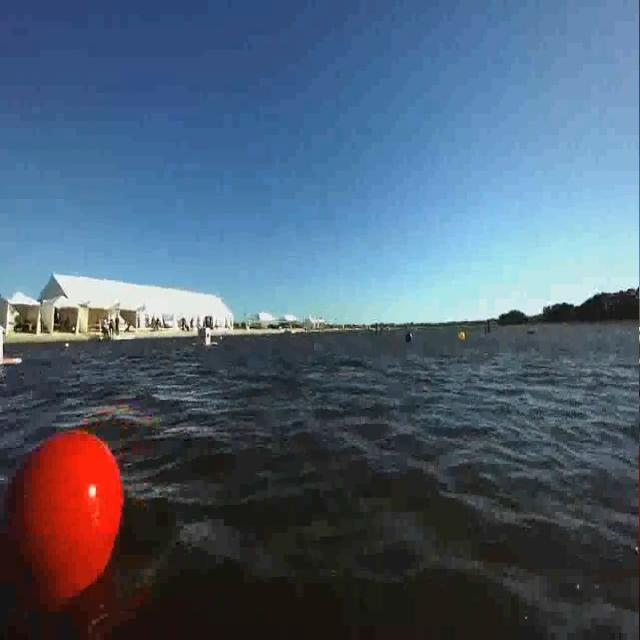red-buoy: (0, 416, 135, 607)
yellow-buoy: (458, 330, 468, 344)
